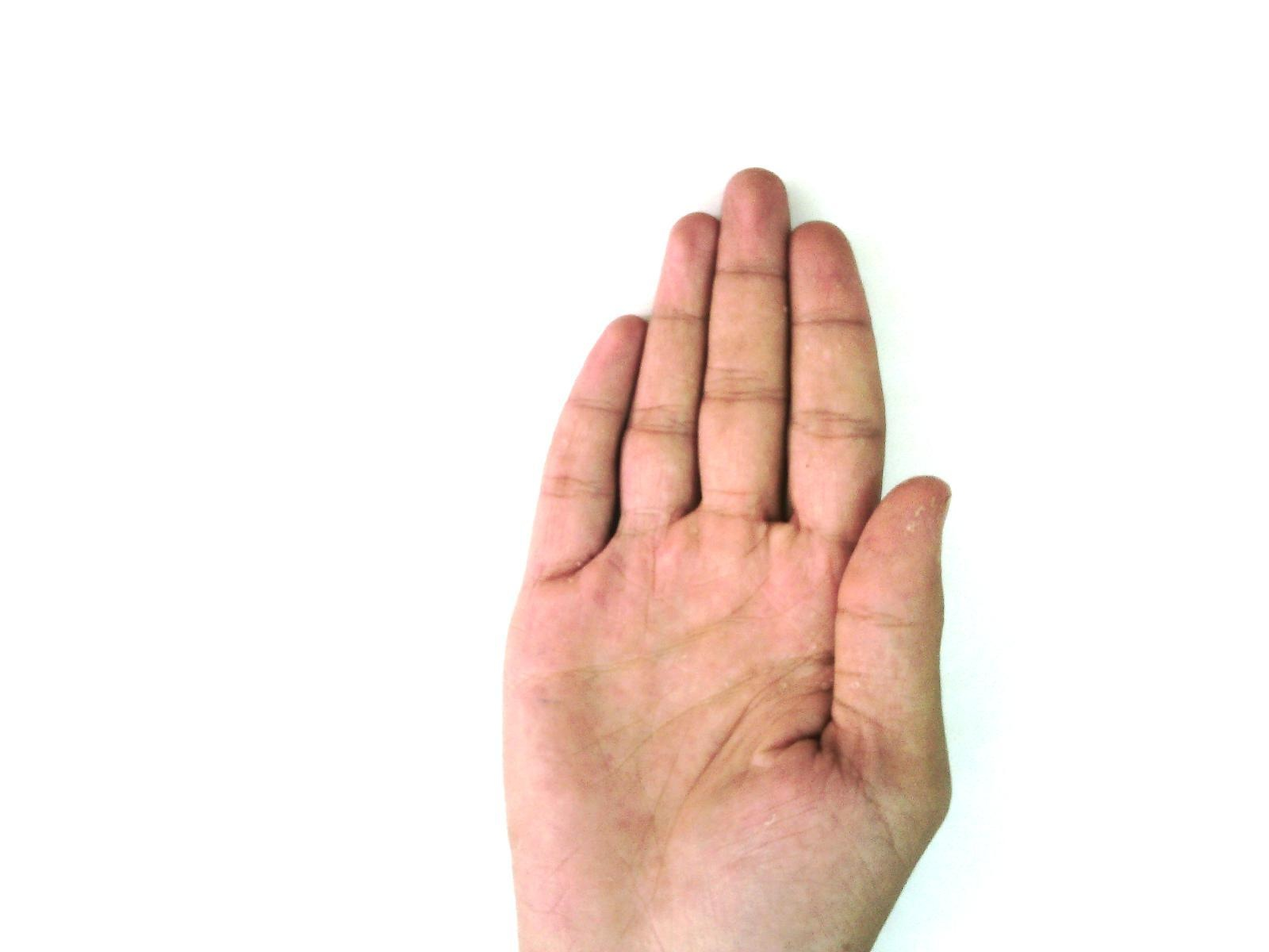open_palm: (498, 167, 957, 951)
